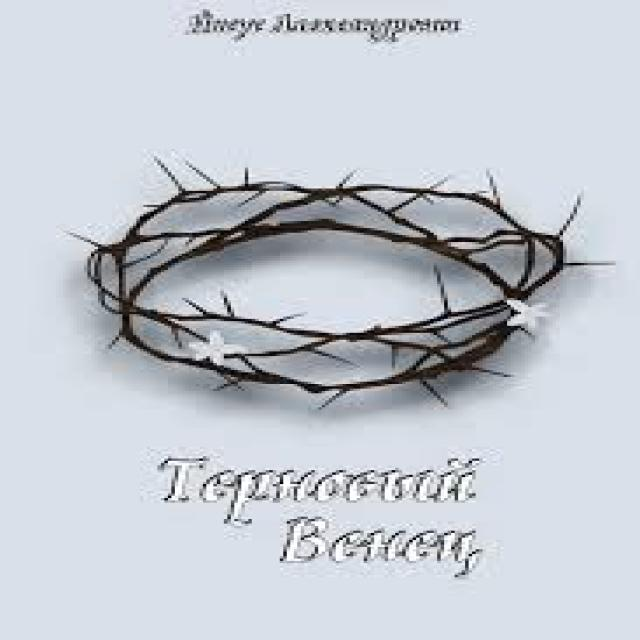crown: (38, 148, 616, 425)
